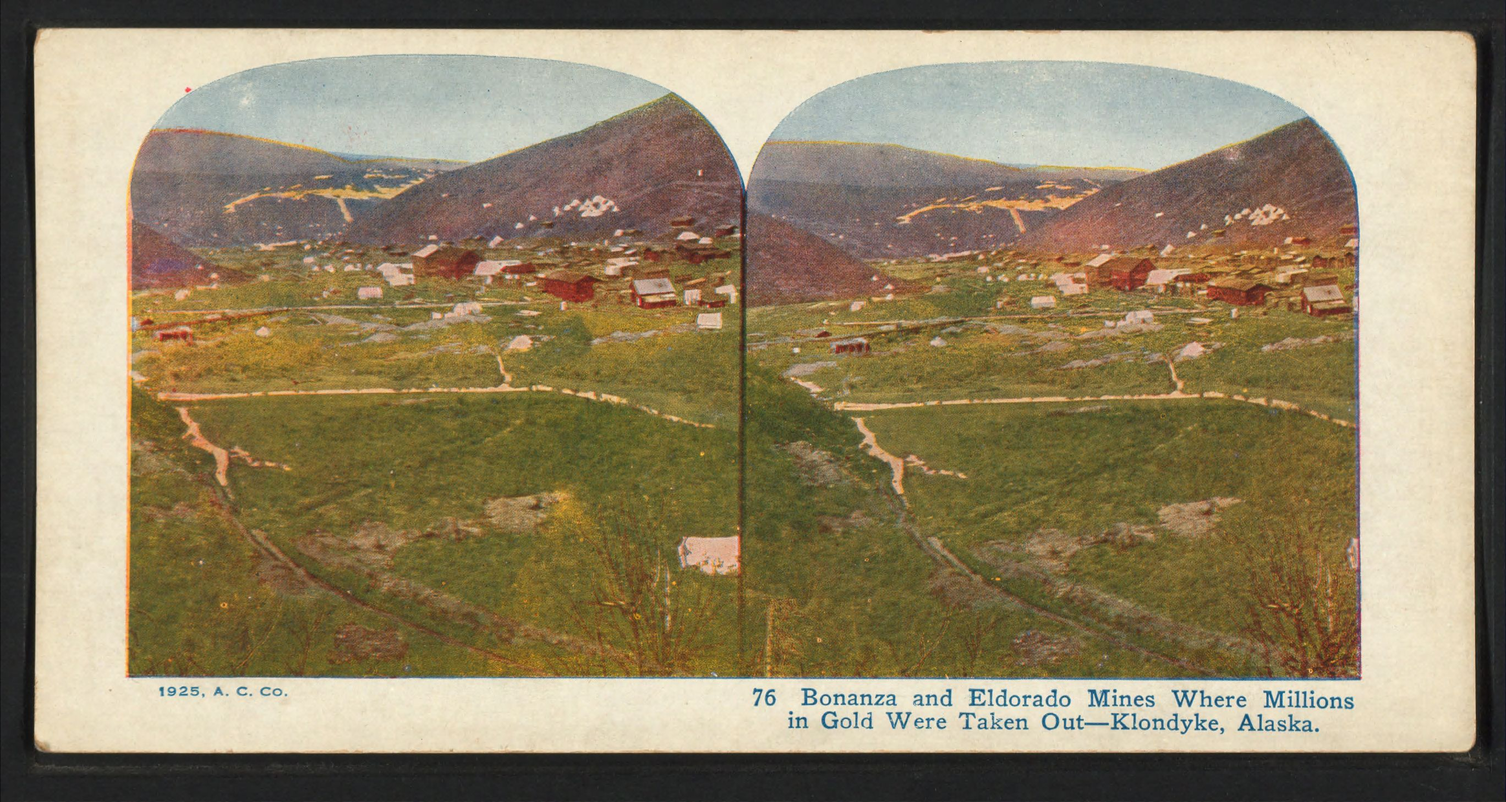half_image: (742, 60, 1360, 678), (129, 53, 741, 677)
